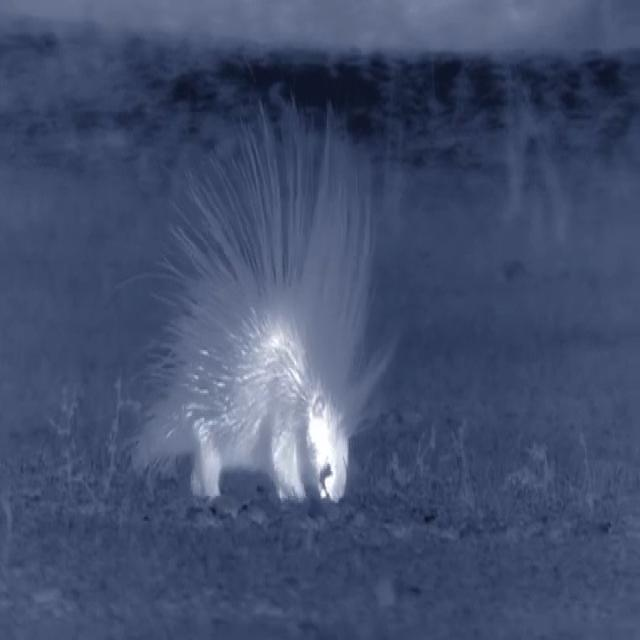animal: (91, 37, 456, 574)
